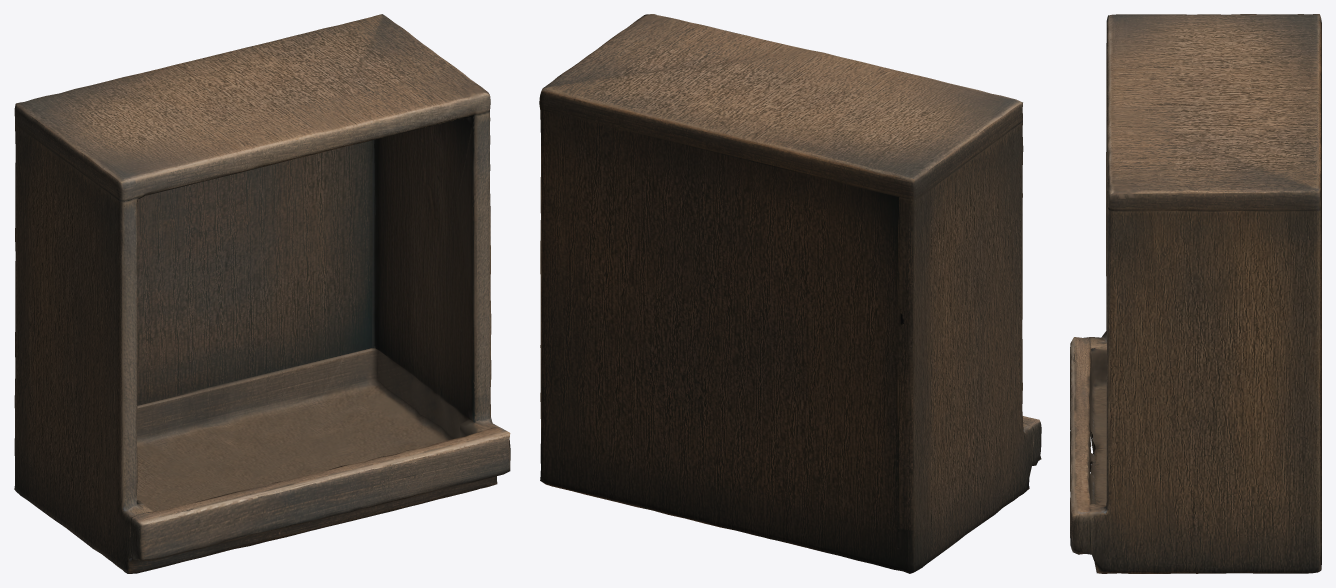
File: Prop_PulleyLiftBox.fbx
3 views of the same model, side by side, from view 1: azimuth 30°, elevation 25°; view 2: azimuth 150°, elevation 25°; view 3: azimuth 270°, elevation 25° (orthographic). The views are drawn at different scales.
Parts seen in each view (by area): view 1: texture_mapping; view 2: texture_mapping; view 3: texture_mapping.
Part boxes in pixels (<box>): texture_mapping: <box>14,14,510,573</box>; texture_mapping: <box>539,14,1041,573</box>; texture_mapping: <box>1070,14,1321,573</box>.
Bounding box in the file's own units: 0.995 × 0.5912 × 0.9978.
Materials: 1 (1 with a texture image).
